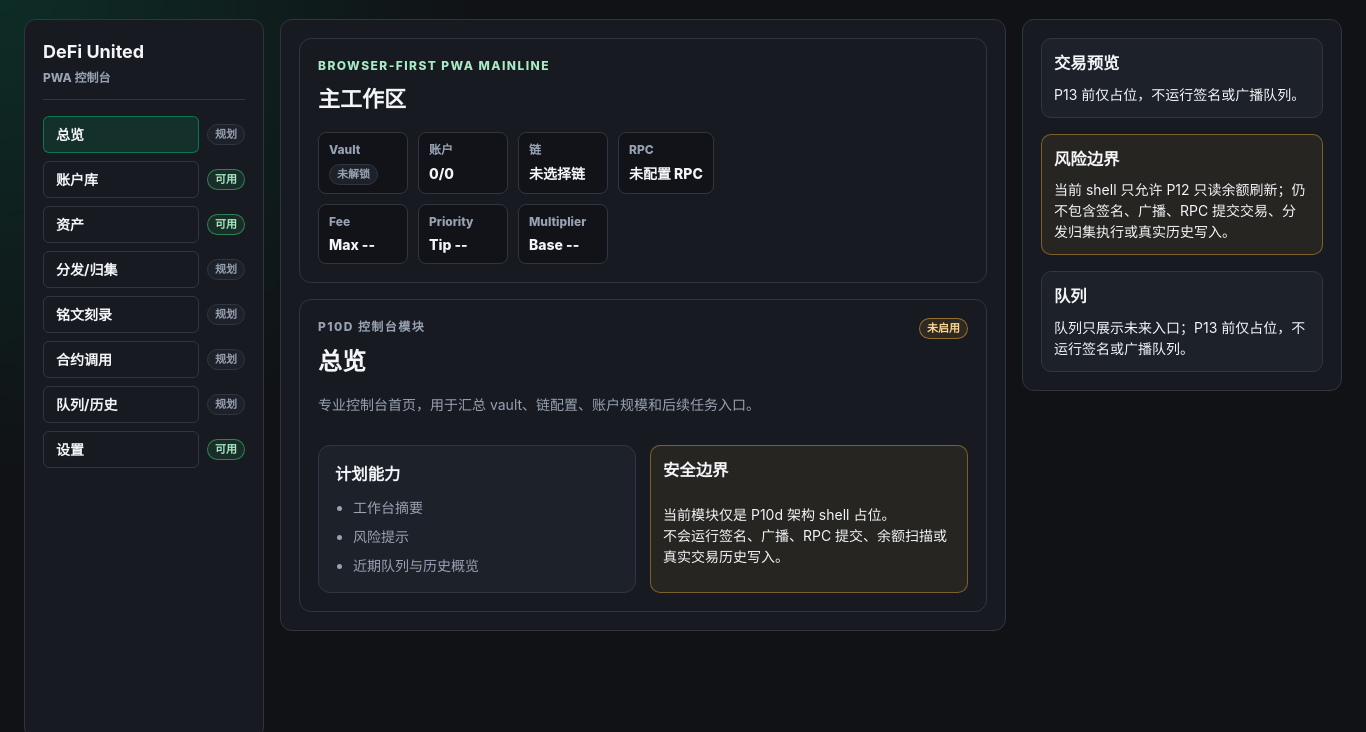
Test: PwaShell › shows chain mismatch without leaking RPC URL secrets
The width and height of the screenshot is (1366, 732).
Click the button "账户库": (121, 180) [43,161,199,198]
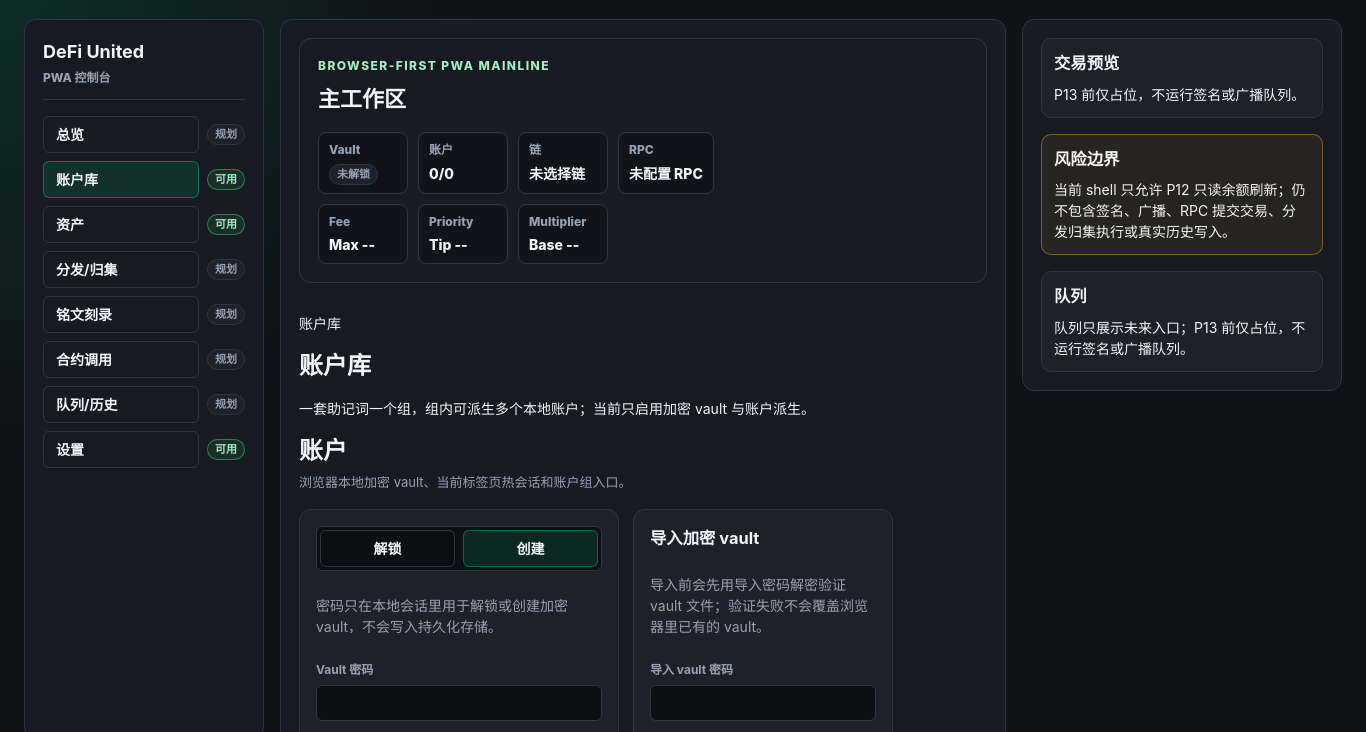
In the password field labelled "Vault 密码": (459, 703) [316,685,602,721], type "correct horse battery staple"
(page scrolled)
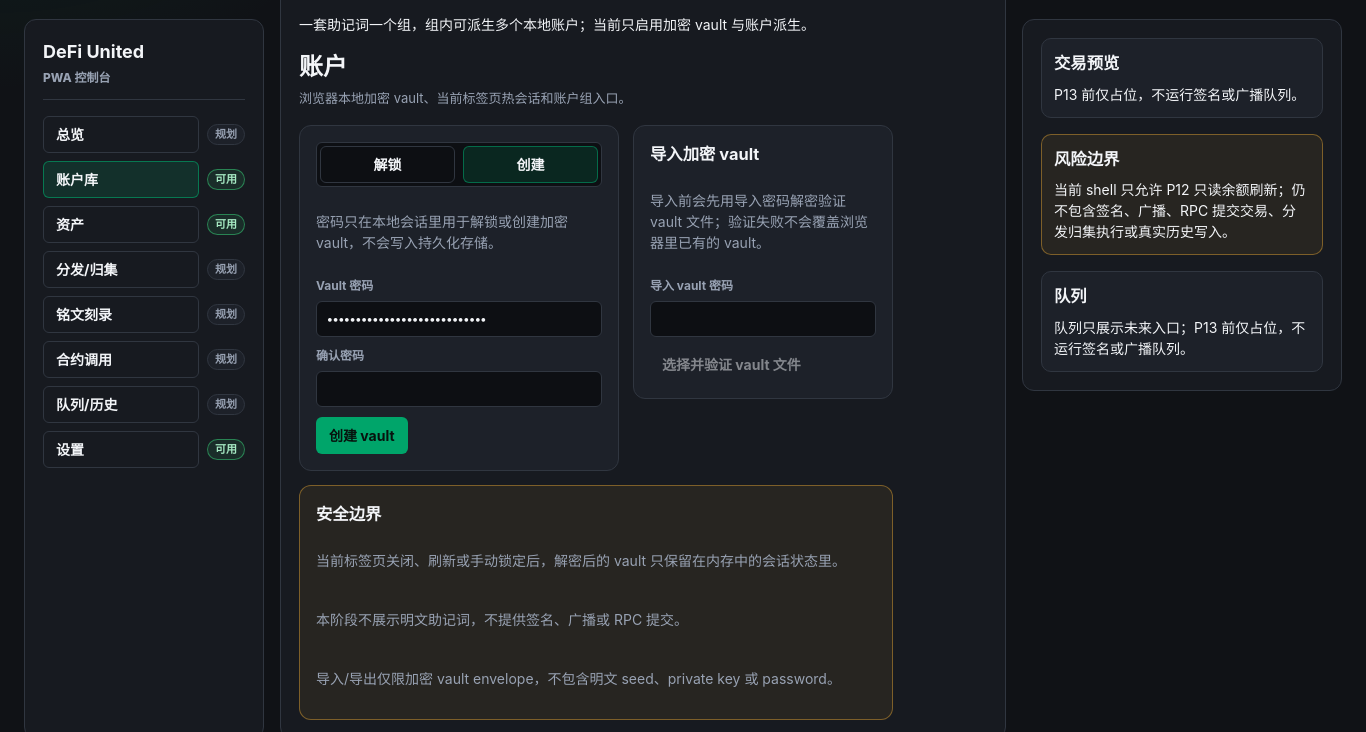
In the password field labelled "确认密码": (459, 389) [316,371,602,407], type "correct horse battery staple"
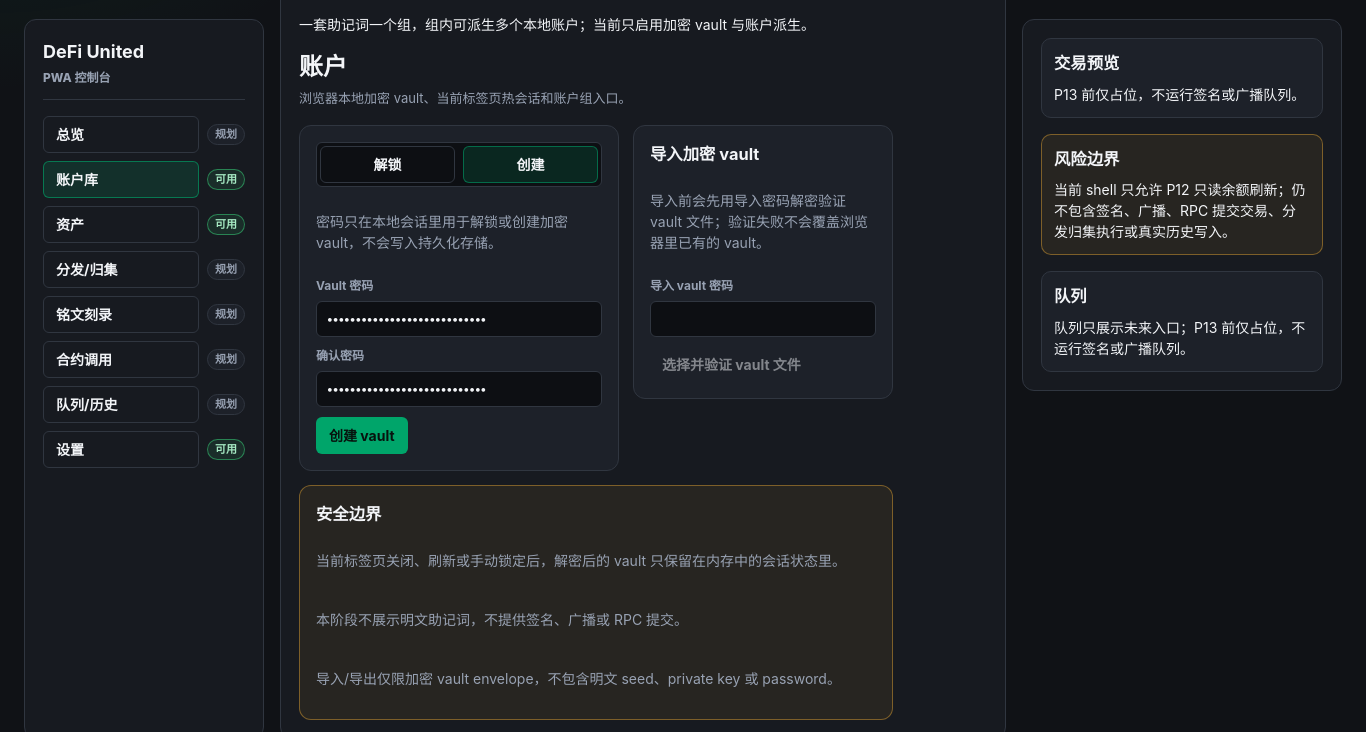
Click the button "创建 vault": (362, 435) [316,417,408,454]
(page scrolled)
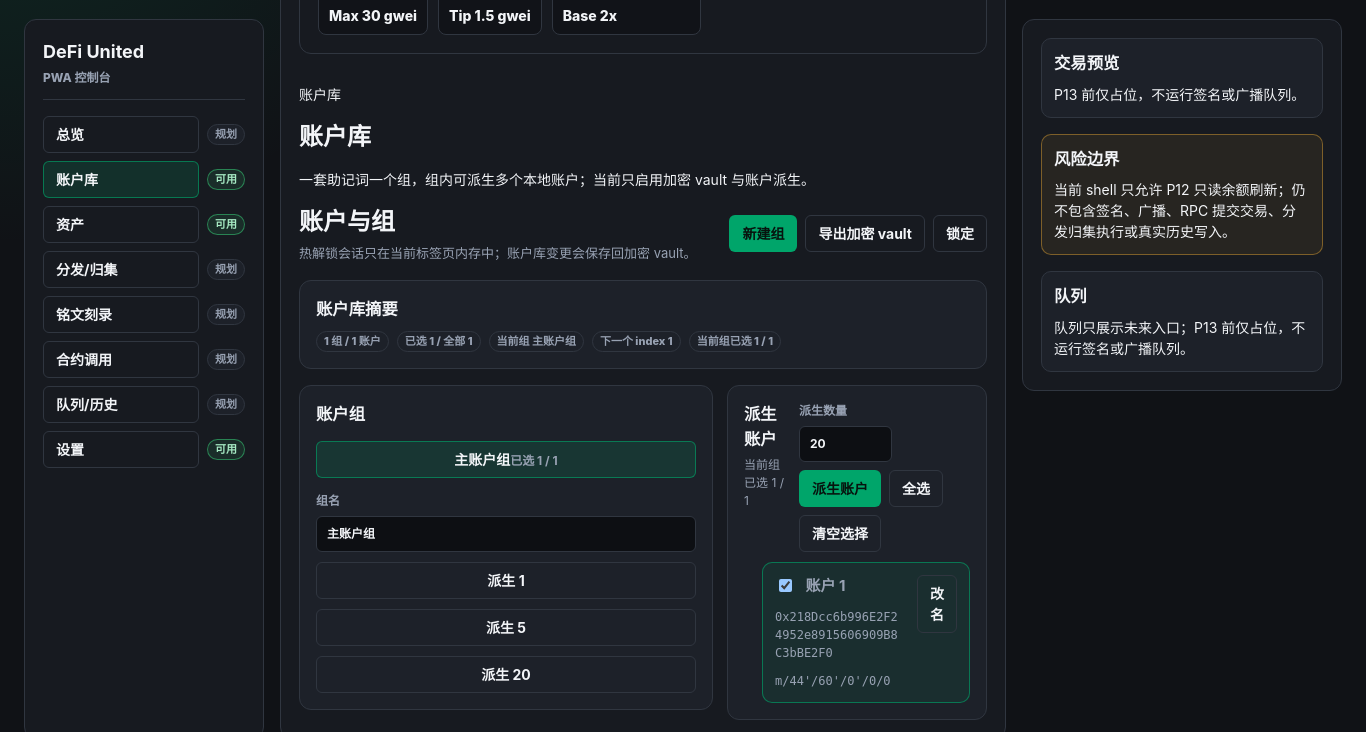
Expected: the heading "账户与组" is shown, [299,207,395,236]
Click the button "资产": (121, 224) [43,206,199,243]
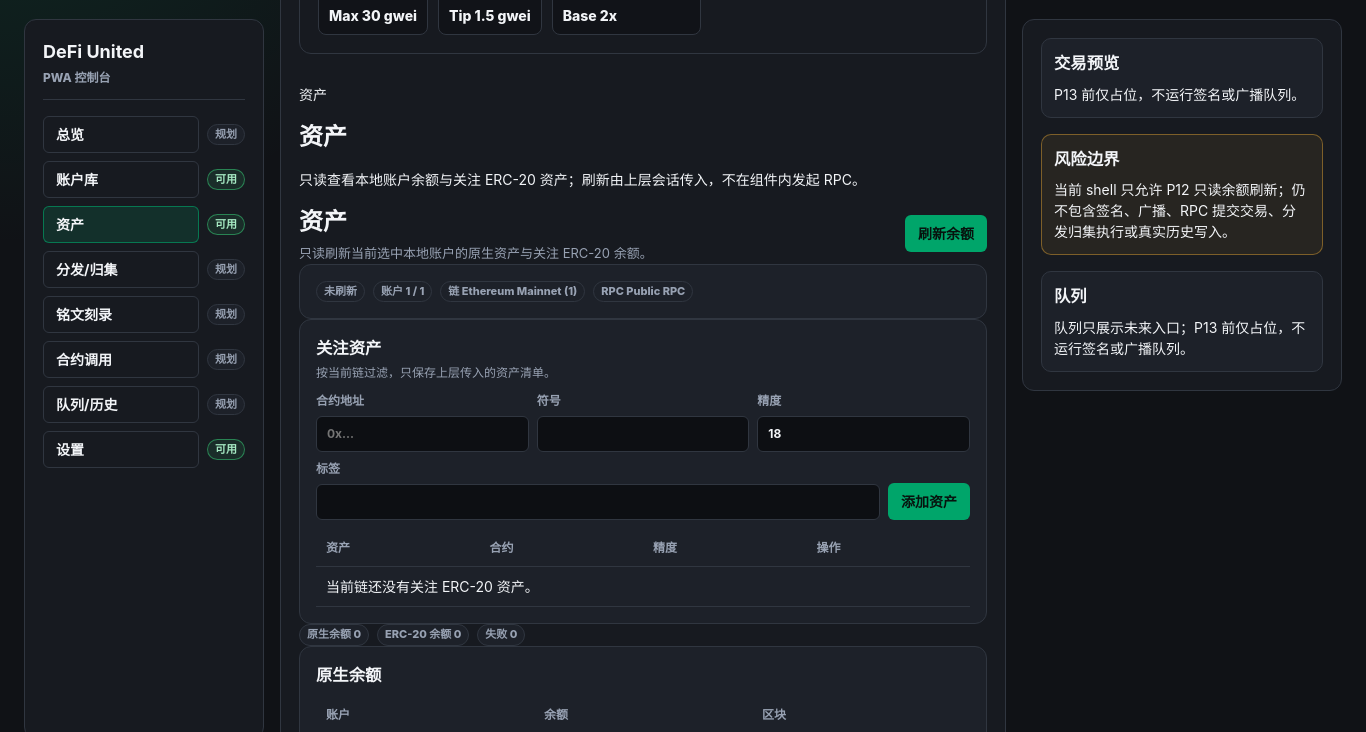
Expected: the button "刷新余额" is shown
Click the button "刷新余额": (946, 234) [905,215,987,252]
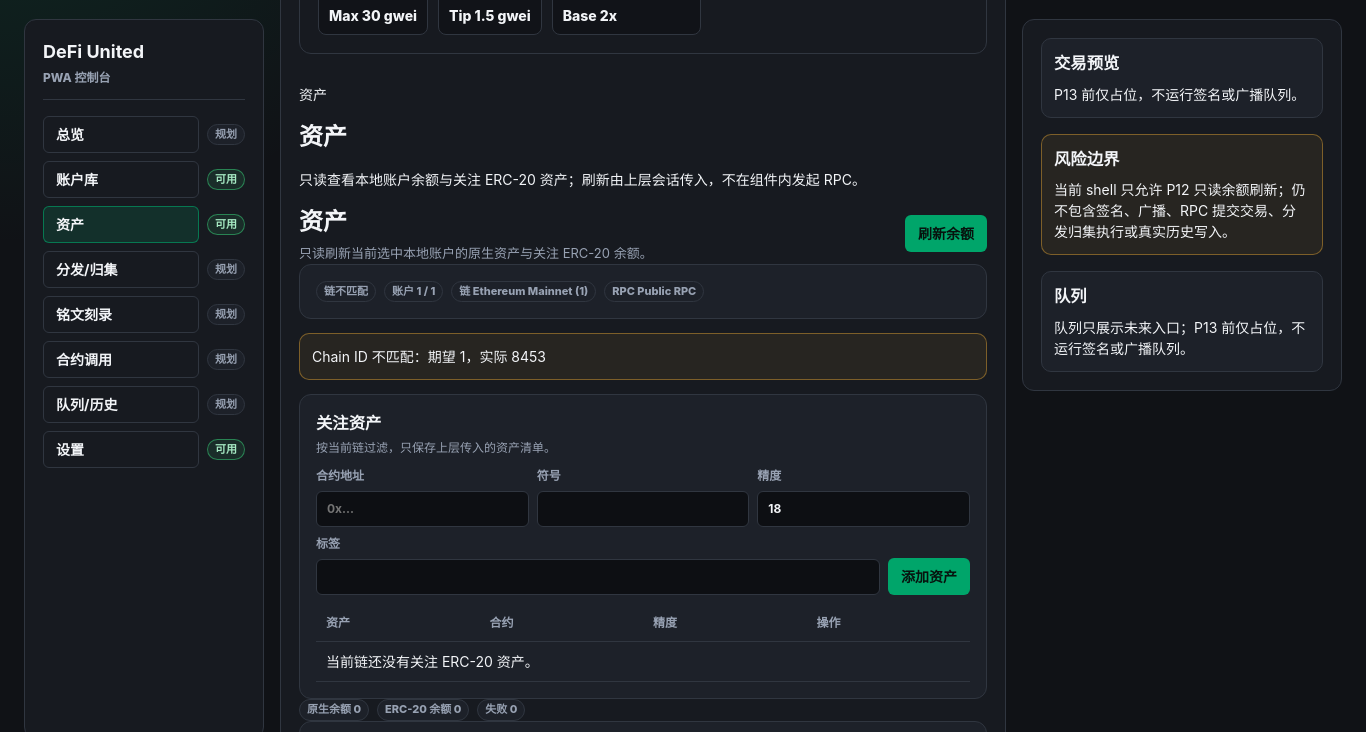
Expected: the text "链不匹配" is shown, [316,281,376,302]
Expected: the text "Chain ID 不匹配：期望 1，实际 8453" is shown, [299,333,987,380]
